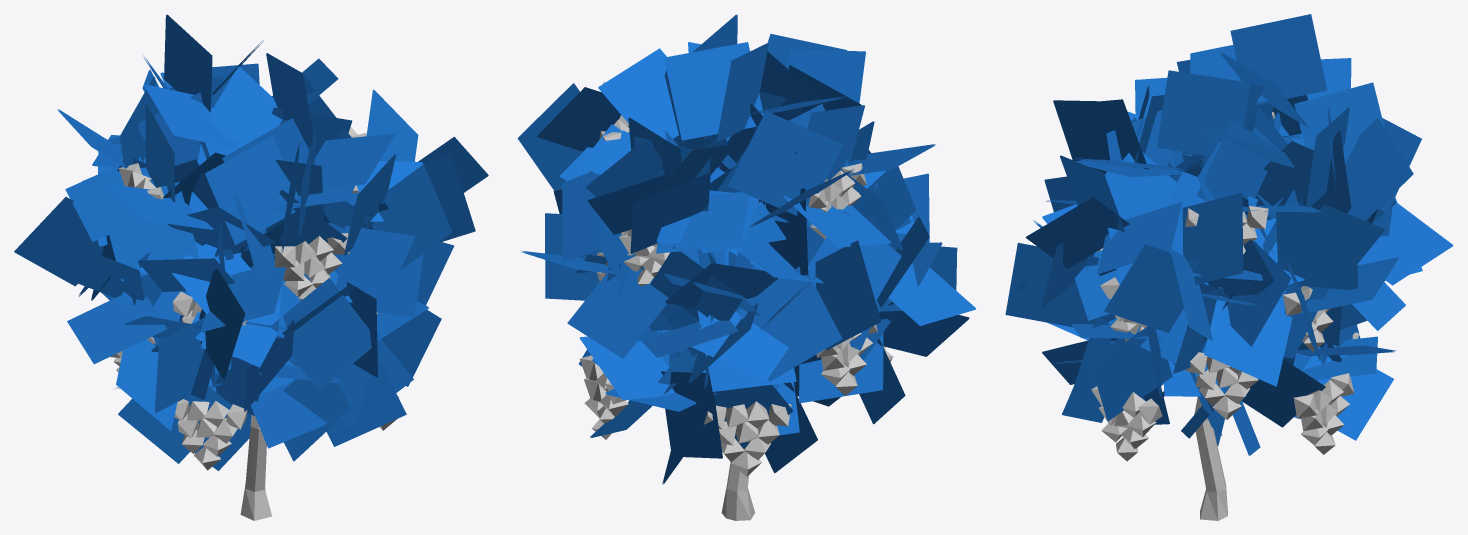
File: SM_grape_tree.fbx
The picture shows the model from 3 angles, left to right: view 1: azimuth 30°, elevation 25°; view 2: azimuth 150°, elevation 25°; view 3: azimuth 270°, elevation 25°; orthographic projection. The views are drawn at different scales.
Visible parts, largest first — view 1: grape; view 2: grape; view 3: grape.
Part boxes in pixels (box(x1,y1,x2,y2)): grape: box(14, 14, 488, 520); grape: box(517, 14, 975, 520); grape: box(1005, 14, 1453, 520).
Size of the model in its own units: 124 by 136 by 115.
